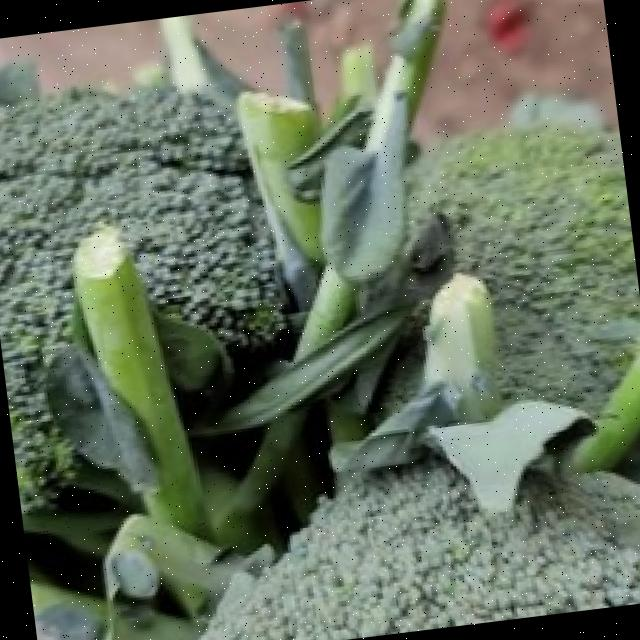Broccoli: (0, 88, 284, 509), (0, 89, 282, 505), (195, 456, 640, 640), (195, 456, 640, 640), (408, 126, 640, 413), (408, 126, 640, 413)
